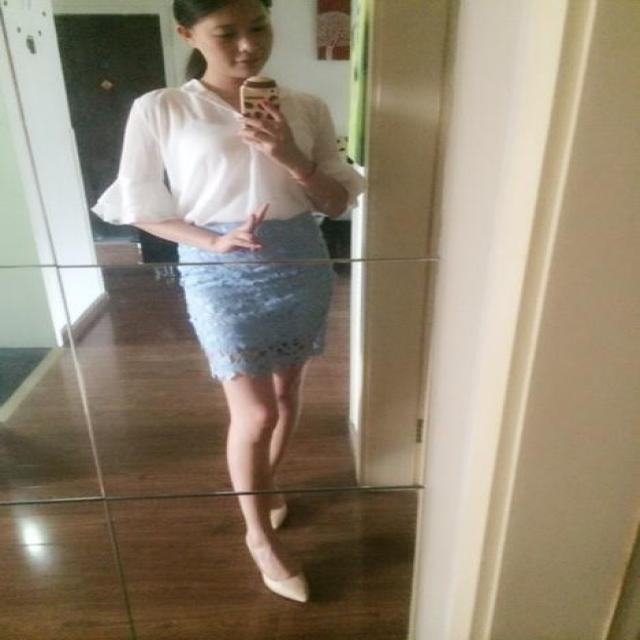long sleeve top: (93, 80, 356, 227)
skirt: (185, 213, 335, 377)
